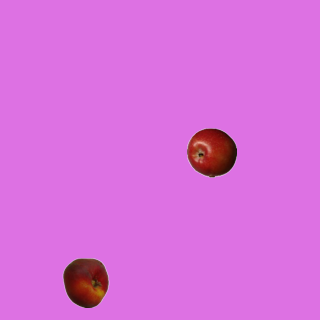Apple Braeburn: (186, 127, 236, 177)
Nectarine Flat: (60, 257, 110, 307)
